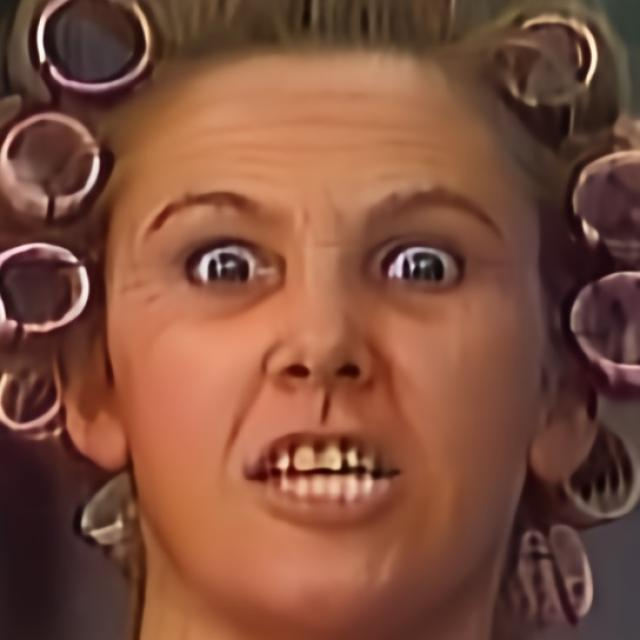fear: (109, 37, 536, 618)
